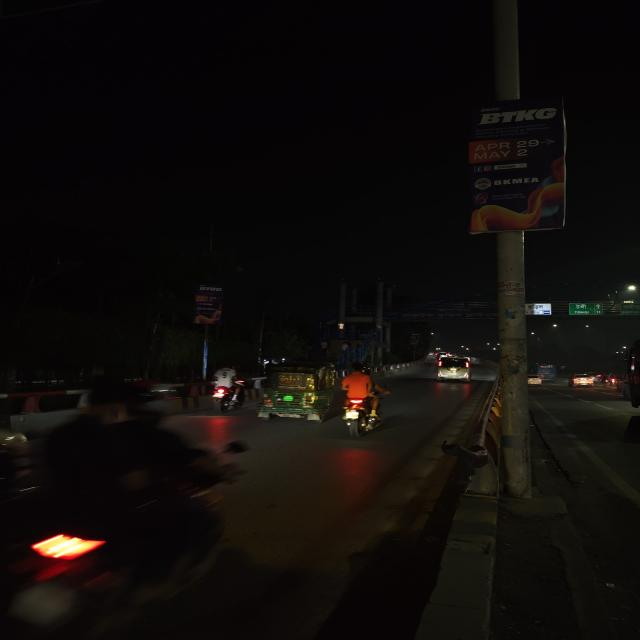car: (431, 350, 477, 389)
cng: (248, 358, 339, 431)
motorcycle: (336, 368, 380, 438), (203, 365, 239, 413)
